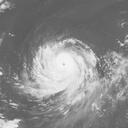cyclone: (18, 38, 103, 107)
